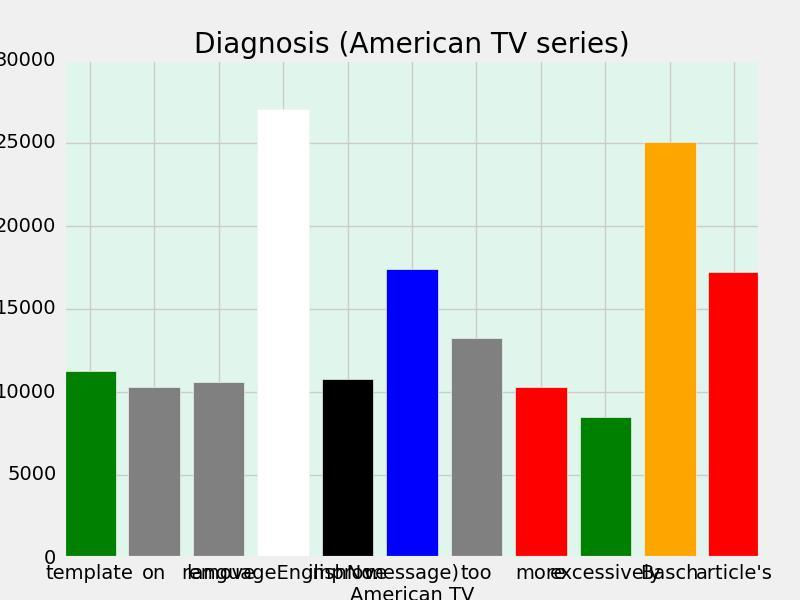axis: (0, 51, 56, 567)
rectangle: (257, 109, 309, 558), (644, 142, 696, 558), (386, 269, 438, 558), (708, 272, 760, 558), (450, 338, 502, 558), (64, 371, 116, 558), (192, 382, 245, 558), (322, 379, 374, 558), (128, 387, 180, 558), (515, 387, 567, 558), (580, 417, 632, 558)
